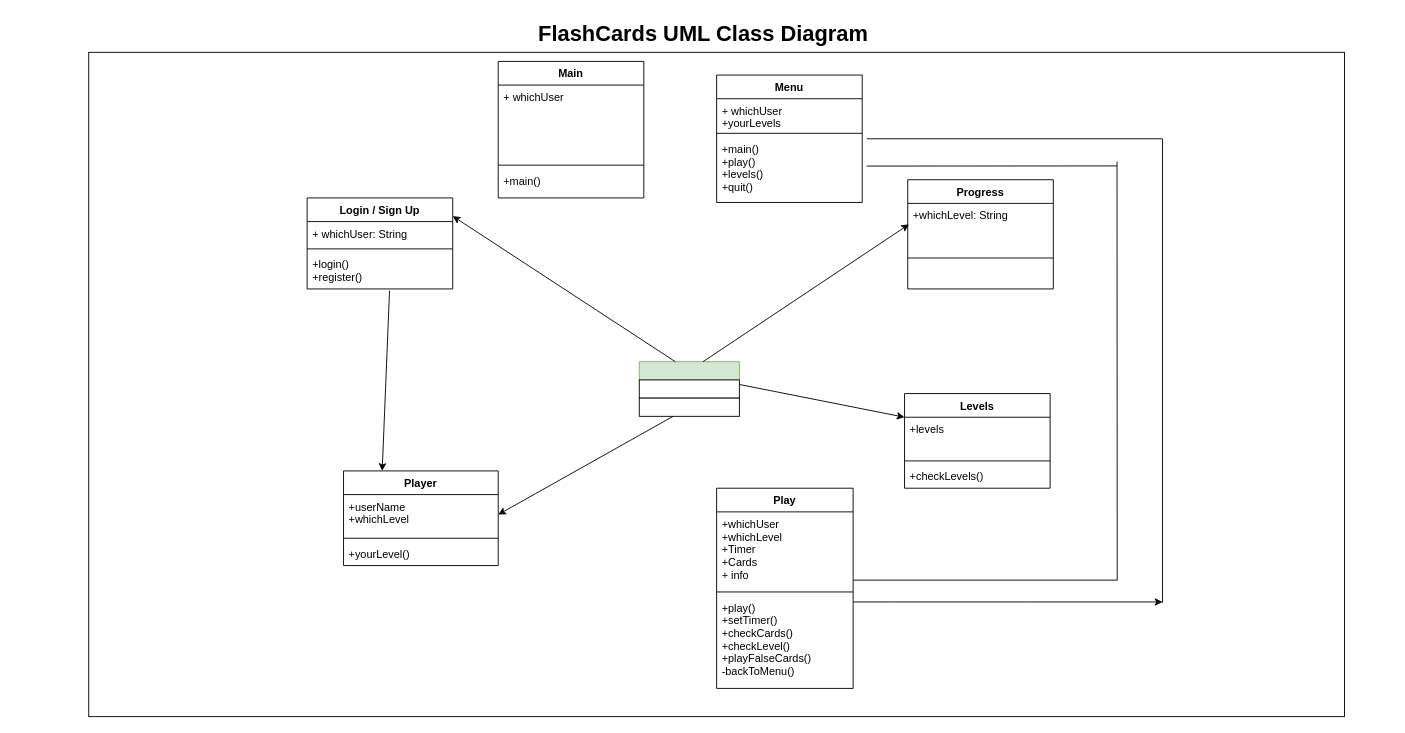
The diagram is 1405 pixels wide and 733 high, and some of its shapes have lost their labels. The shapes that lost their labels are listed below. From the top down, each one's centre as x and y in pixels, then its label:
pixel 688 370: JSON
pixel 688 388: Text
